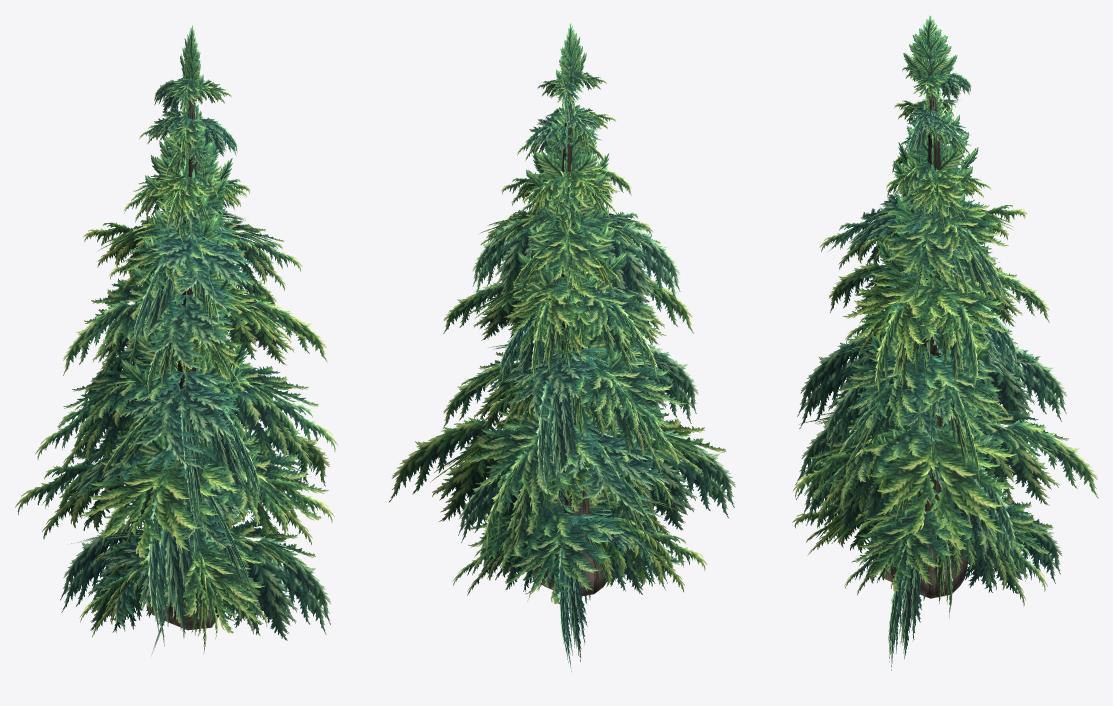
Rendered from tree_pine_young.glb.
The picture shows the model from 3 angles, left to right: view 1: azimuth 30°, elevation 25°; view 2: azimuth 150°, elevation 25°; view 3: azimuth 270°, elevation 25°; orthographic projection. The views are drawn at different scales.
Parts seen in each view (by area): view 1: tree_pine_young; view 2: tree_pine_young; view 3: tree_pine_young.
Part boxes in pixels (<box>): tree_pine_young: <box>15,25,337,654</box>; tree_pine_young: <box>389,23,735,671</box>; tree_pine_young: <box>792,15,1098,670</box>.
Bounding box in the file's own units: 7.74 × 14.72 × 7.07.
Materials: 2 (2 with a texture image).
